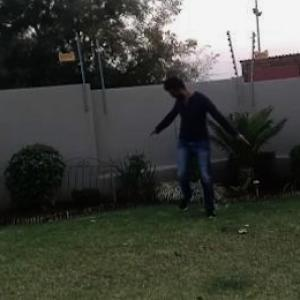land: (123, 61, 244, 237)
